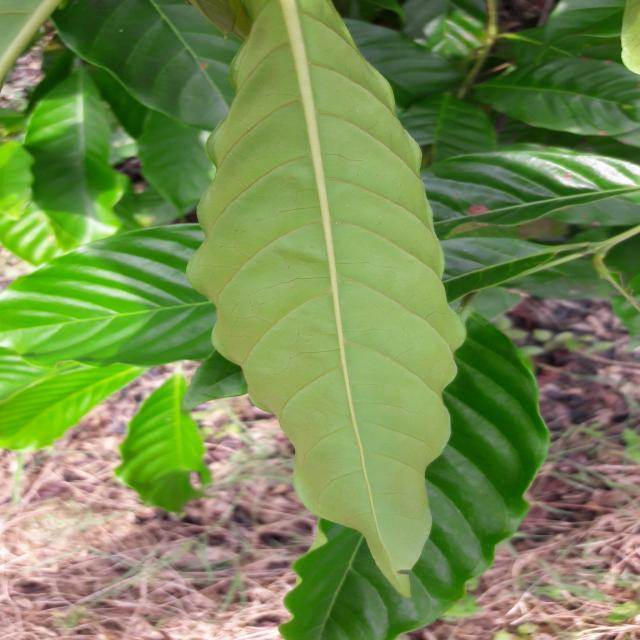Sanas: (185, 0, 464, 599)
